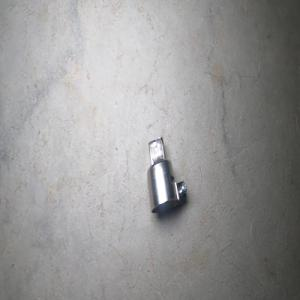MetalPart: (146, 135, 187, 213)
